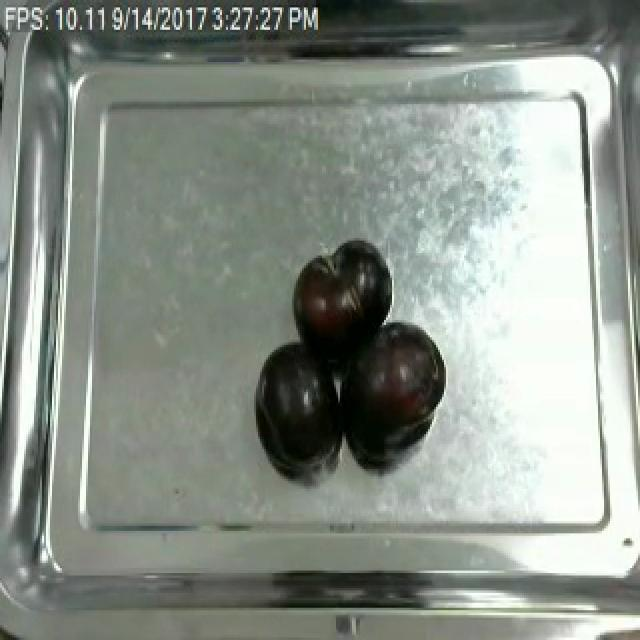Fruit: (336, 317, 446, 454), (252, 338, 344, 467), (288, 240, 388, 354)
